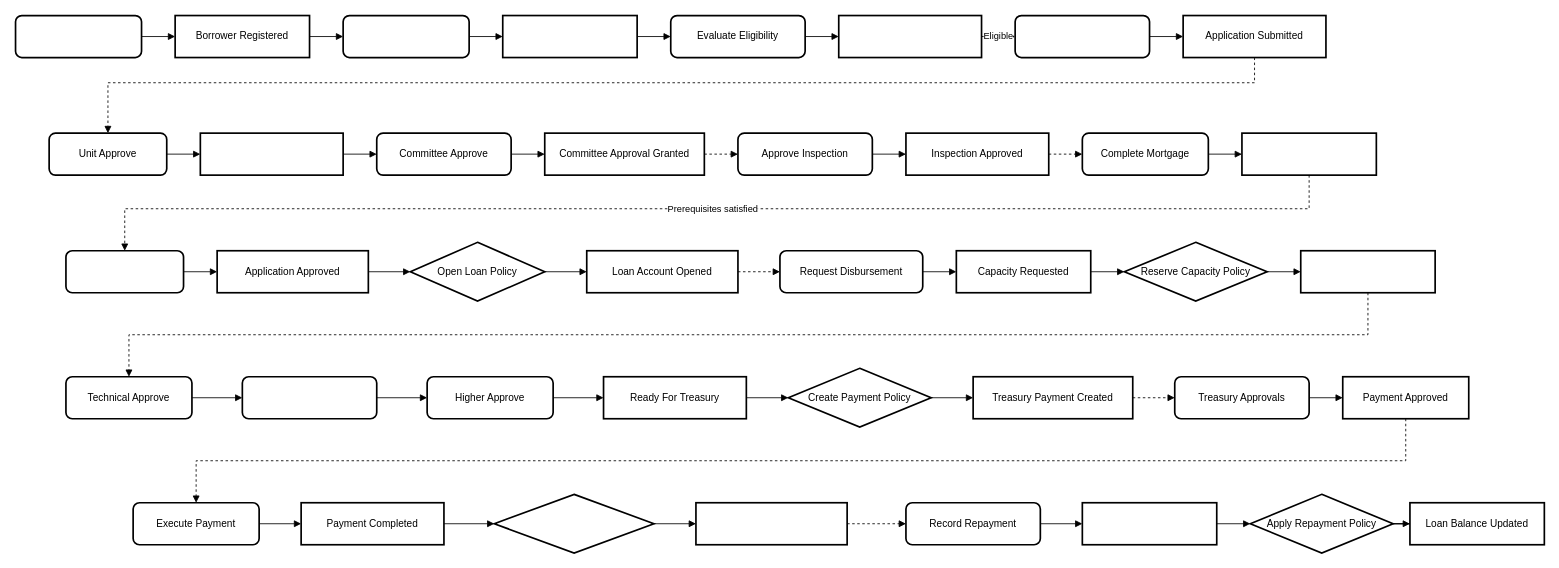
Some shapes in this 1559 by 568 pixel diagram are drawn without their labels. Here are the shapes that lost their labels. From the top down, the centre of each, then its label:
At point 78,36: "Register Borrower".
At point 406,36: "Create Application".
At point 569,36: "Application Created".
At point 909,36: "Eligibility Evaluated".
At point 1082,36: "Submit Application".
At point 271,154: "Unit Approval Granted".
At point 1309,154: "Mortgage Completed".
At point 124,271: "Final Approve".
At point 1367,271: "Capacity Reserved".
At point 309,397: "Accounting Approve".
At point 573,523: "Confirm Disbursement Policy".
At point 771,523: "Disbursement Confirmed".
At point 1149,523: "Repayment Posted".
